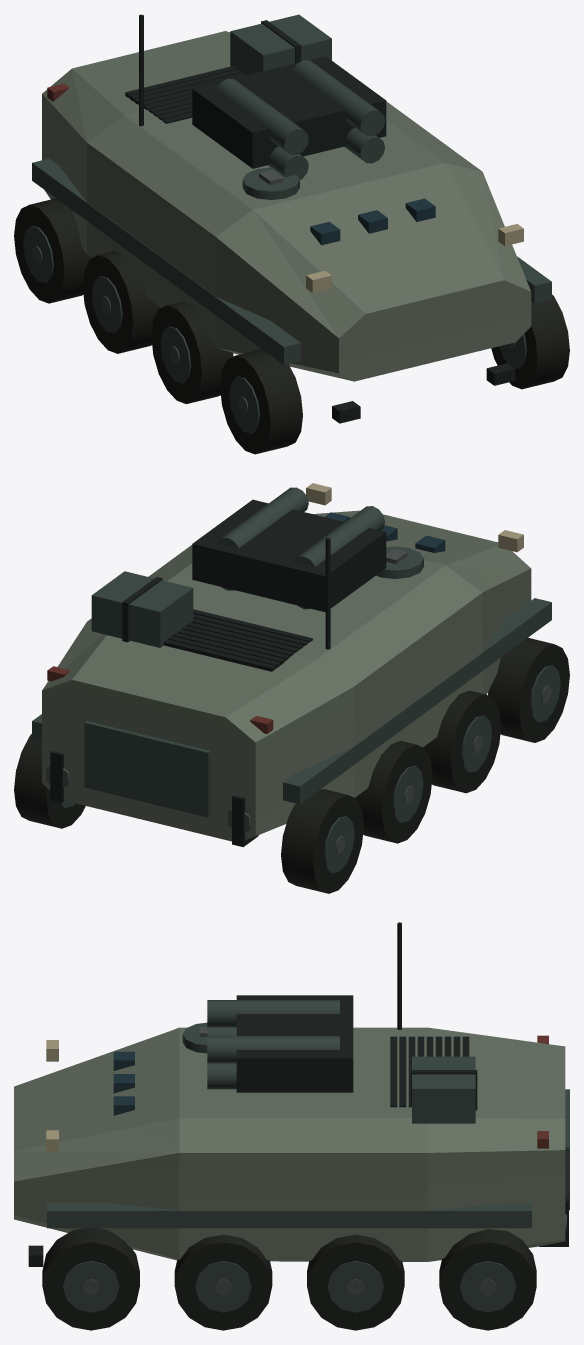
The model's file is tankDestroyer-lod.glb.
The picture shows the model from 3 angles, top to bottom: view 1: azimuth 30°, elevation 25°; view 2: azimuth 150°, elevation 25°; view 3: azimuth 270°, elevation 25°; orthographic projection. The views are drawn at different scales.
Parts seen in each view (by area): view 1: equipment (×2); view 2: equipment (×2); view 3: equipment (×2).
Part boxes in pixels (box(x1,y1,x2,y2)): equipment (×2): box(14, 14, 569, 454); equipment (×2): box(14, 483, 569, 893); equipment (×2): box(14, 922, 569, 1330).
Bounding box in the file's own units: 3.19 × 3.05 × 5.24.
